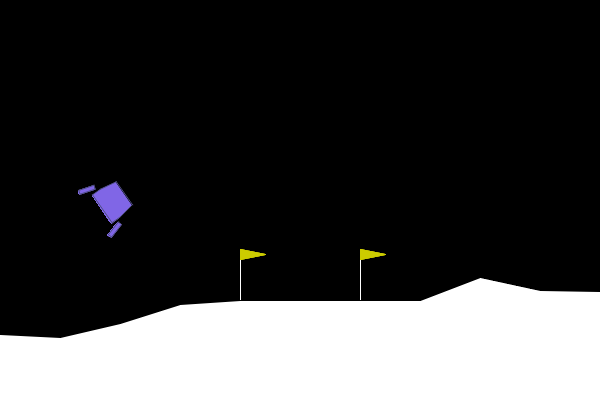lander: (76, 168, 143, 240)
